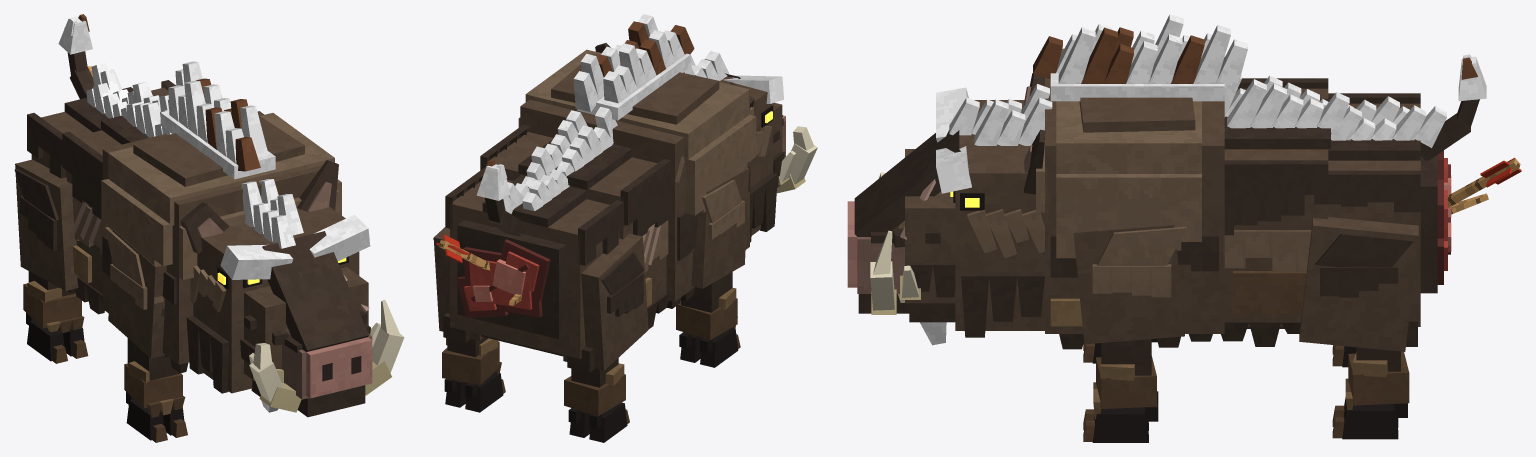
Rendered from fmob_boar.glb.
3 views of the same model, side by side, from view 1: azimuth 30°, elevation 25°; view 2: azimuth 150°, elevation 25°; view 3: azimuth 270°, elevation 25° (orthographic). The views are drawn at different scales.
Parts seen in each view (by area): view 1: fmob_boar, head, leg_br, leg_fr, jaw, sway_tail; view 2: fmob_boar, leg_br, leg_fr, weak_rump, head, leg_bl, sway_tail, jaw; view 3: fmob_boar, head, leg_bl, leg_fl, jaw, weak_rump, sway_tail.
Boxes of the visible parts, bbox=[...] form: fmob_boar: bbox=[27, 61, 341, 373]; head: bbox=[180, 160, 380, 399]; leg_br: bbox=[14, 159, 88, 363]; leg_fr: bbox=[105, 227, 187, 442]; jaw: bbox=[249, 300, 404, 417]; sway_tail: bbox=[58, 14, 93, 99]; fmob_boar: bbox=[445, 14, 756, 358]; leg_br: bbox=[563, 233, 648, 442]; leg_fr: bbox=[676, 167, 749, 367]; weak_rump: bbox=[436, 234, 550, 317]; head: bbox=[595, 43, 796, 242]; leg_bl: bbox=[433, 227, 505, 412]; sway_tail: bbox=[476, 160, 521, 236]; jaw: bbox=[776, 126, 817, 193]; fmob_boar: bbox=[1033, 14, 1446, 349]; head: bbox=[847, 73, 1052, 337]; leg_bl: bbox=[1299, 217, 1418, 439]; leg_fl: bbox=[1073, 225, 1186, 442]; jaw: bbox=[858, 172, 955, 345]; weak_rump: bbox=[1437, 150, 1521, 284]; sway_tail: bbox=[1420, 54, 1486, 160].
Bounding box in the file's own units: 0.906 × 1.46 × 2.41.
Materials: 24 (13 with a texture image).
